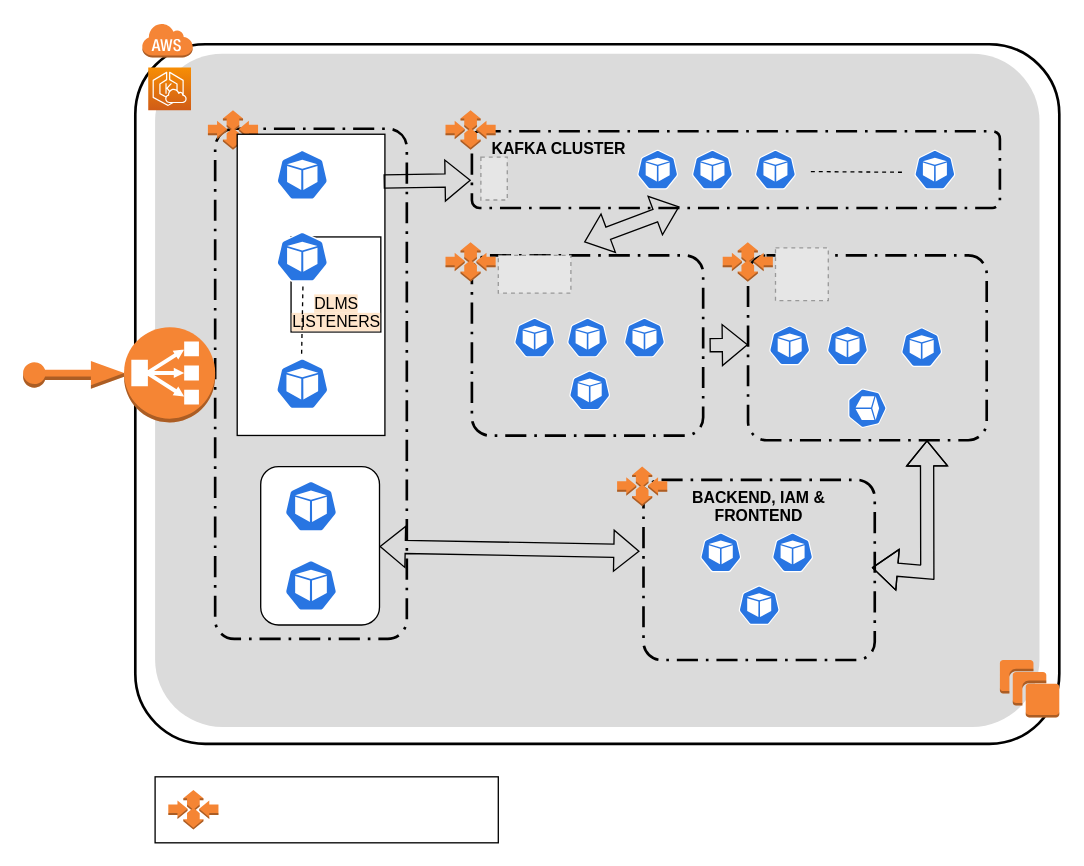
The diagram is 1084 pixels wide and 866 high, and some of its shapes have lost their labels. Grey dashed boxes stand in for pictures. The shapes that lost their labels are listed below. From the top down, each one's box as (x1, y1, x2, y2) in pixels, then its label:
(259, 465, 380, 625): MQTT
(154, 776, 498, 843): AUTO SCALING GROUP
